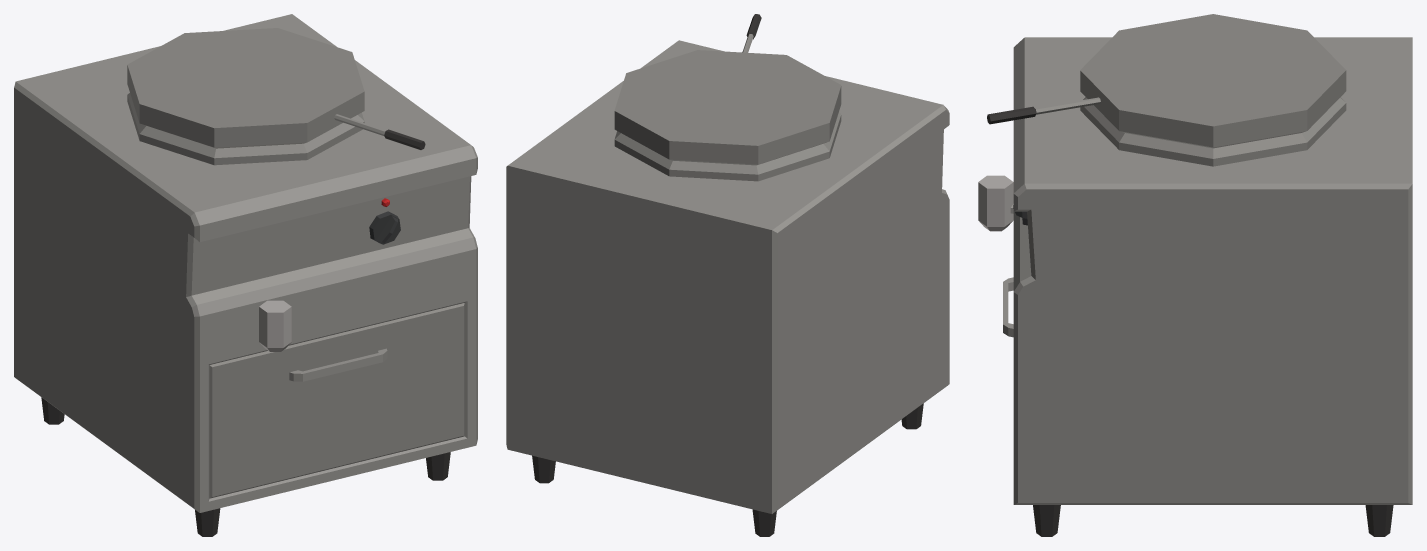
File: SM_Props_Interior_Shop_Restaurant_Kitchen_SoupKettle.fbx
The picture shows the model from 3 angles, left to right: view 1: azimuth 30°, elevation 25°; view 2: azimuth 150°, elevation 25°; view 3: azimuth 270°, elevation 25°; orthographic projection. The views are drawn at different scales.
Parts seen in each view (by area): view 1: SM_Props_Interior_Shop_Restaurant_Kitchen_SoupKettle, SM_Props_Interior_Shop_Restaurant_Kitchen_SoupKettle_Door; view 2: SM_Props_Interior_Shop_Restaurant_Kitchen_SoupKettle; view 3: SM_Props_Interior_Shop_Restaurant_Kitchen_SoupKettle.
Part boxes in pixels (x1=…): SM_Props_Interior_Shop_Restaurant_Kitchen_SoupKettle: x1=14, y1=14, x2=477, y2=536; SM_Props_Interior_Shop_Restaurant_Kitchen_SoupKettle_Door: x1=209, y1=303, x2=464, y2=498; SM_Props_Interior_Shop_Restaurant_Kitchen_SoupKettle: x1=506, y1=14, x2=949, y2=536; SM_Props_Interior_Shop_Restaurant_Kitchen_SoupKettle: x1=978, y1=14, x2=1412, y2=536.
Bounding box in the file's own units: 80 × 100 × 97.99.
